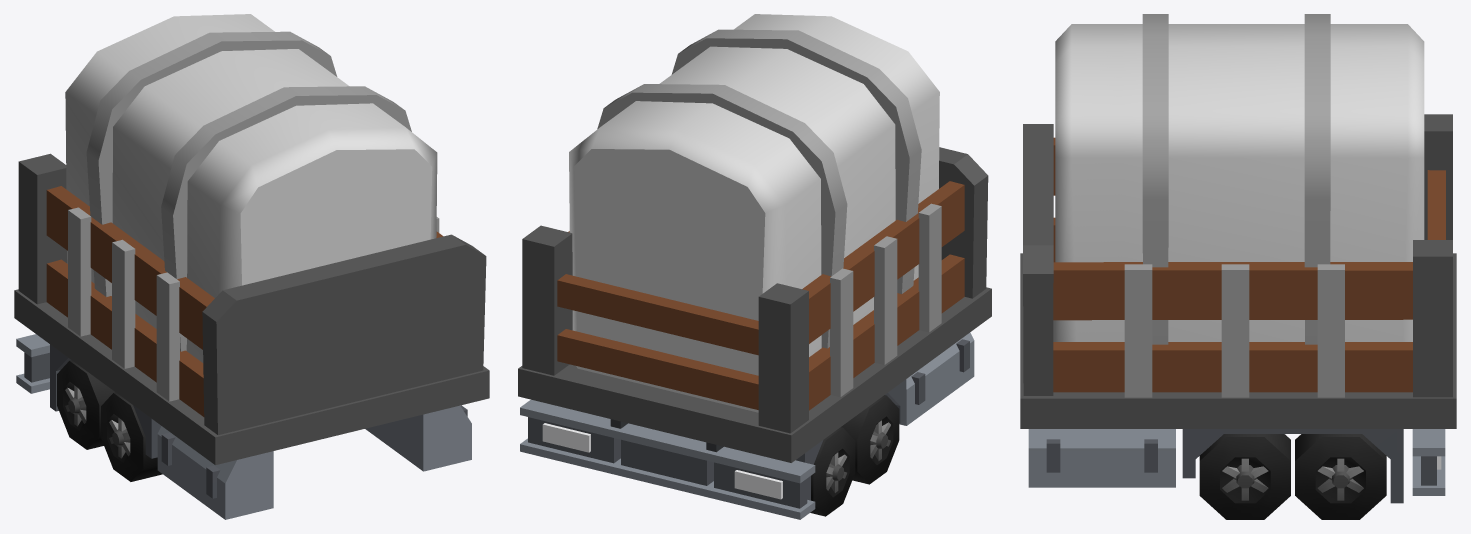
File: cargo_02_B_1.fbx
The picture shows the model from 3 angles, left to right: view 1: azimuth 30°, elevation 25°; view 2: azimuth 150°, elevation 25°; view 3: azimuth 270°, elevation 25°; orthographic projection. The views are drawn at different scales.
Parts seen in each view (by area): view 1: cargo_02_B_1; view 2: cargo_02_B_1; view 3: cargo_02_B_1.
Boxes of the visible parts, x1,y1,x2,y2 form: cargo_02_B_1: [14, 14, 489, 519]; cargo_02_B_1: [518, 14, 991, 519]; cargo_02_B_1: [1020, 14, 1456, 519].
Bounding box in the file's own units: 13.27 × 17.29 × 16.43.
